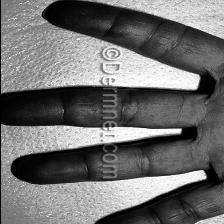Unclassified: (119, 88, 134, 120)
